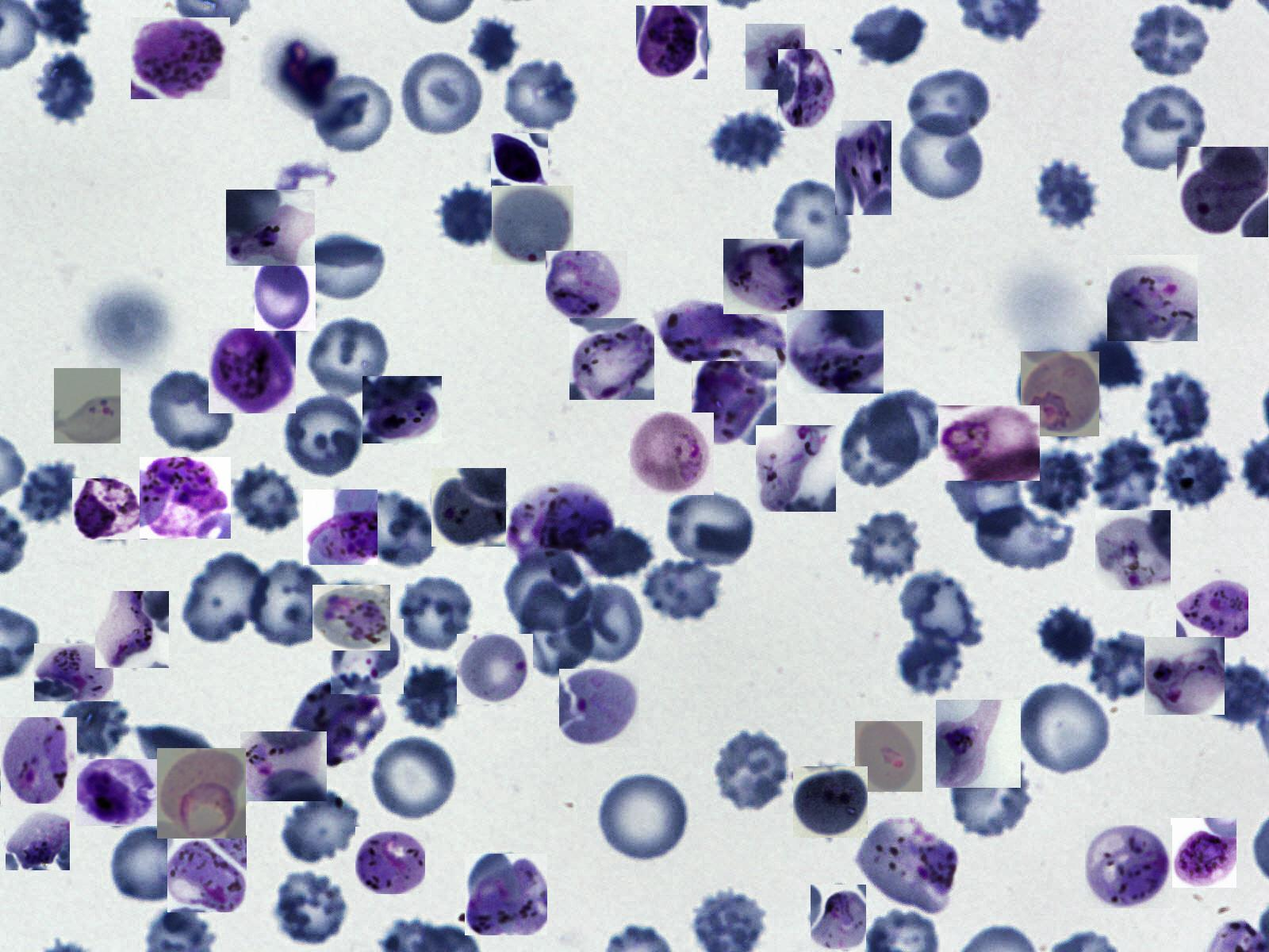Infected: (651, 297, 781, 374), (857, 818, 958, 916), (505, 486, 617, 562), (289, 683, 388, 766), (1177, 147, 1268, 237), (157, 748, 246, 839), (787, 310, 884, 393), (132, 17, 230, 99), (1107, 255, 1198, 342), (938, 405, 1040, 481), (936, 700, 1021, 788), (140, 457, 231, 539), (209, 328, 296, 413), (1085, 825, 1172, 908), (692, 361, 776, 445), (569, 318, 654, 400), (756, 425, 836, 512), (630, 413, 714, 495), (226, 190, 315, 266), (1, 717, 77, 805), (465, 854, 547, 935), (1021, 351, 1099, 436), (492, 186, 573, 265), (1144, 637, 1225, 715), (559, 669, 639, 747), (167, 835, 247, 912), (240, 731, 327, 801), (1095, 510, 1171, 590), (723, 239, 803, 314), (546, 251, 627, 324), (431, 469, 506, 547), (303, 489, 378, 565), (95, 591, 169, 668), (75, 759, 158, 826), (793, 766, 868, 838), (332, 619, 404, 694), (362, 376, 442, 443), (457, 634, 533, 704), (835, 121, 891, 215), (1176, 566, 1248, 639), (778, 50, 842, 131), (636, 6, 707, 79), (312, 585, 390, 651), (54, 368, 121, 443), (855, 721, 922, 792), (355, 827, 425, 894), (72, 478, 148, 539), (34, 643, 113, 701), (1171, 818, 1236, 888), (6, 804, 70, 870), (255, 263, 316, 331), (746, 24, 805, 90), (811, 885, 866, 950), (491, 133, 548, 187)
Uninfected: (1017, 678, 1117, 777), (596, 769, 694, 864), (1118, 78, 1211, 175), (178, 551, 271, 647), (245, 554, 336, 647), (771, 175, 857, 272), (368, 733, 461, 821), (508, 546, 596, 639), (946, 747, 1032, 842), (144, 367, 236, 455), (661, 487, 758, 569), (399, 47, 486, 138), (1118, 0, 1217, 79), (305, 315, 397, 400), (899, 112, 983, 205), (281, 390, 370, 477), (309, 67, 395, 156), (562, 580, 650, 666), (107, 823, 195, 905), (298, 226, 389, 305), (901, 566, 985, 651), (709, 727, 792, 812), (839, 404, 922, 489), (945, 447, 1026, 534), (972, 505, 1074, 574), (350, 488, 439, 566), (392, 574, 477, 653), (279, 789, 366, 866), (861, 389, 945, 467), (907, 66, 995, 140), (271, 863, 350, 942), (1091, 433, 1160, 518), (1029, 154, 1104, 232), (228, 466, 309, 537), (638, 555, 725, 620), (851, 2, 937, 67), (1141, 372, 1216, 444), (707, 110, 792, 172), (503, 58, 576, 130), (850, 511, 920, 585), (1159, 439, 1230, 509), (1017, 451, 1093, 513), (899, 630, 967, 696), (34, 52, 96, 124), (61, 691, 128, 757), (433, 183, 501, 248), (397, 666, 464, 728), (1091, 632, 1152, 698), (20, 459, 81, 523), (1035, 606, 1098, 667), (586, 525, 654, 579)
